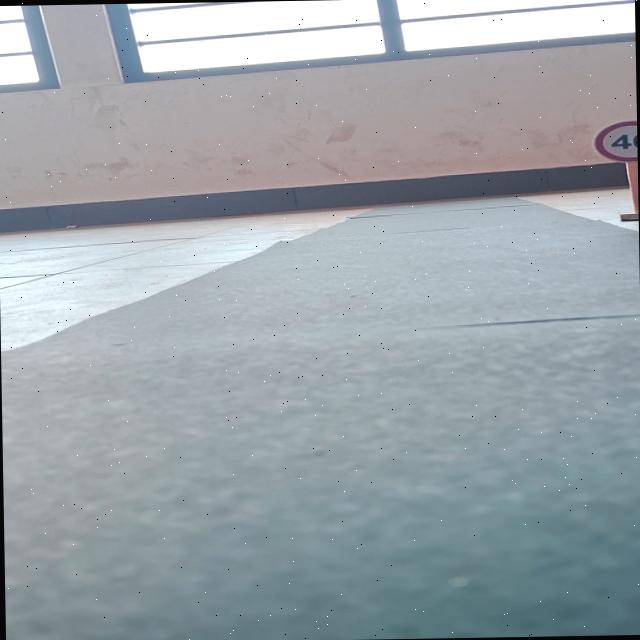Speed40: (590, 114, 638, 166)
